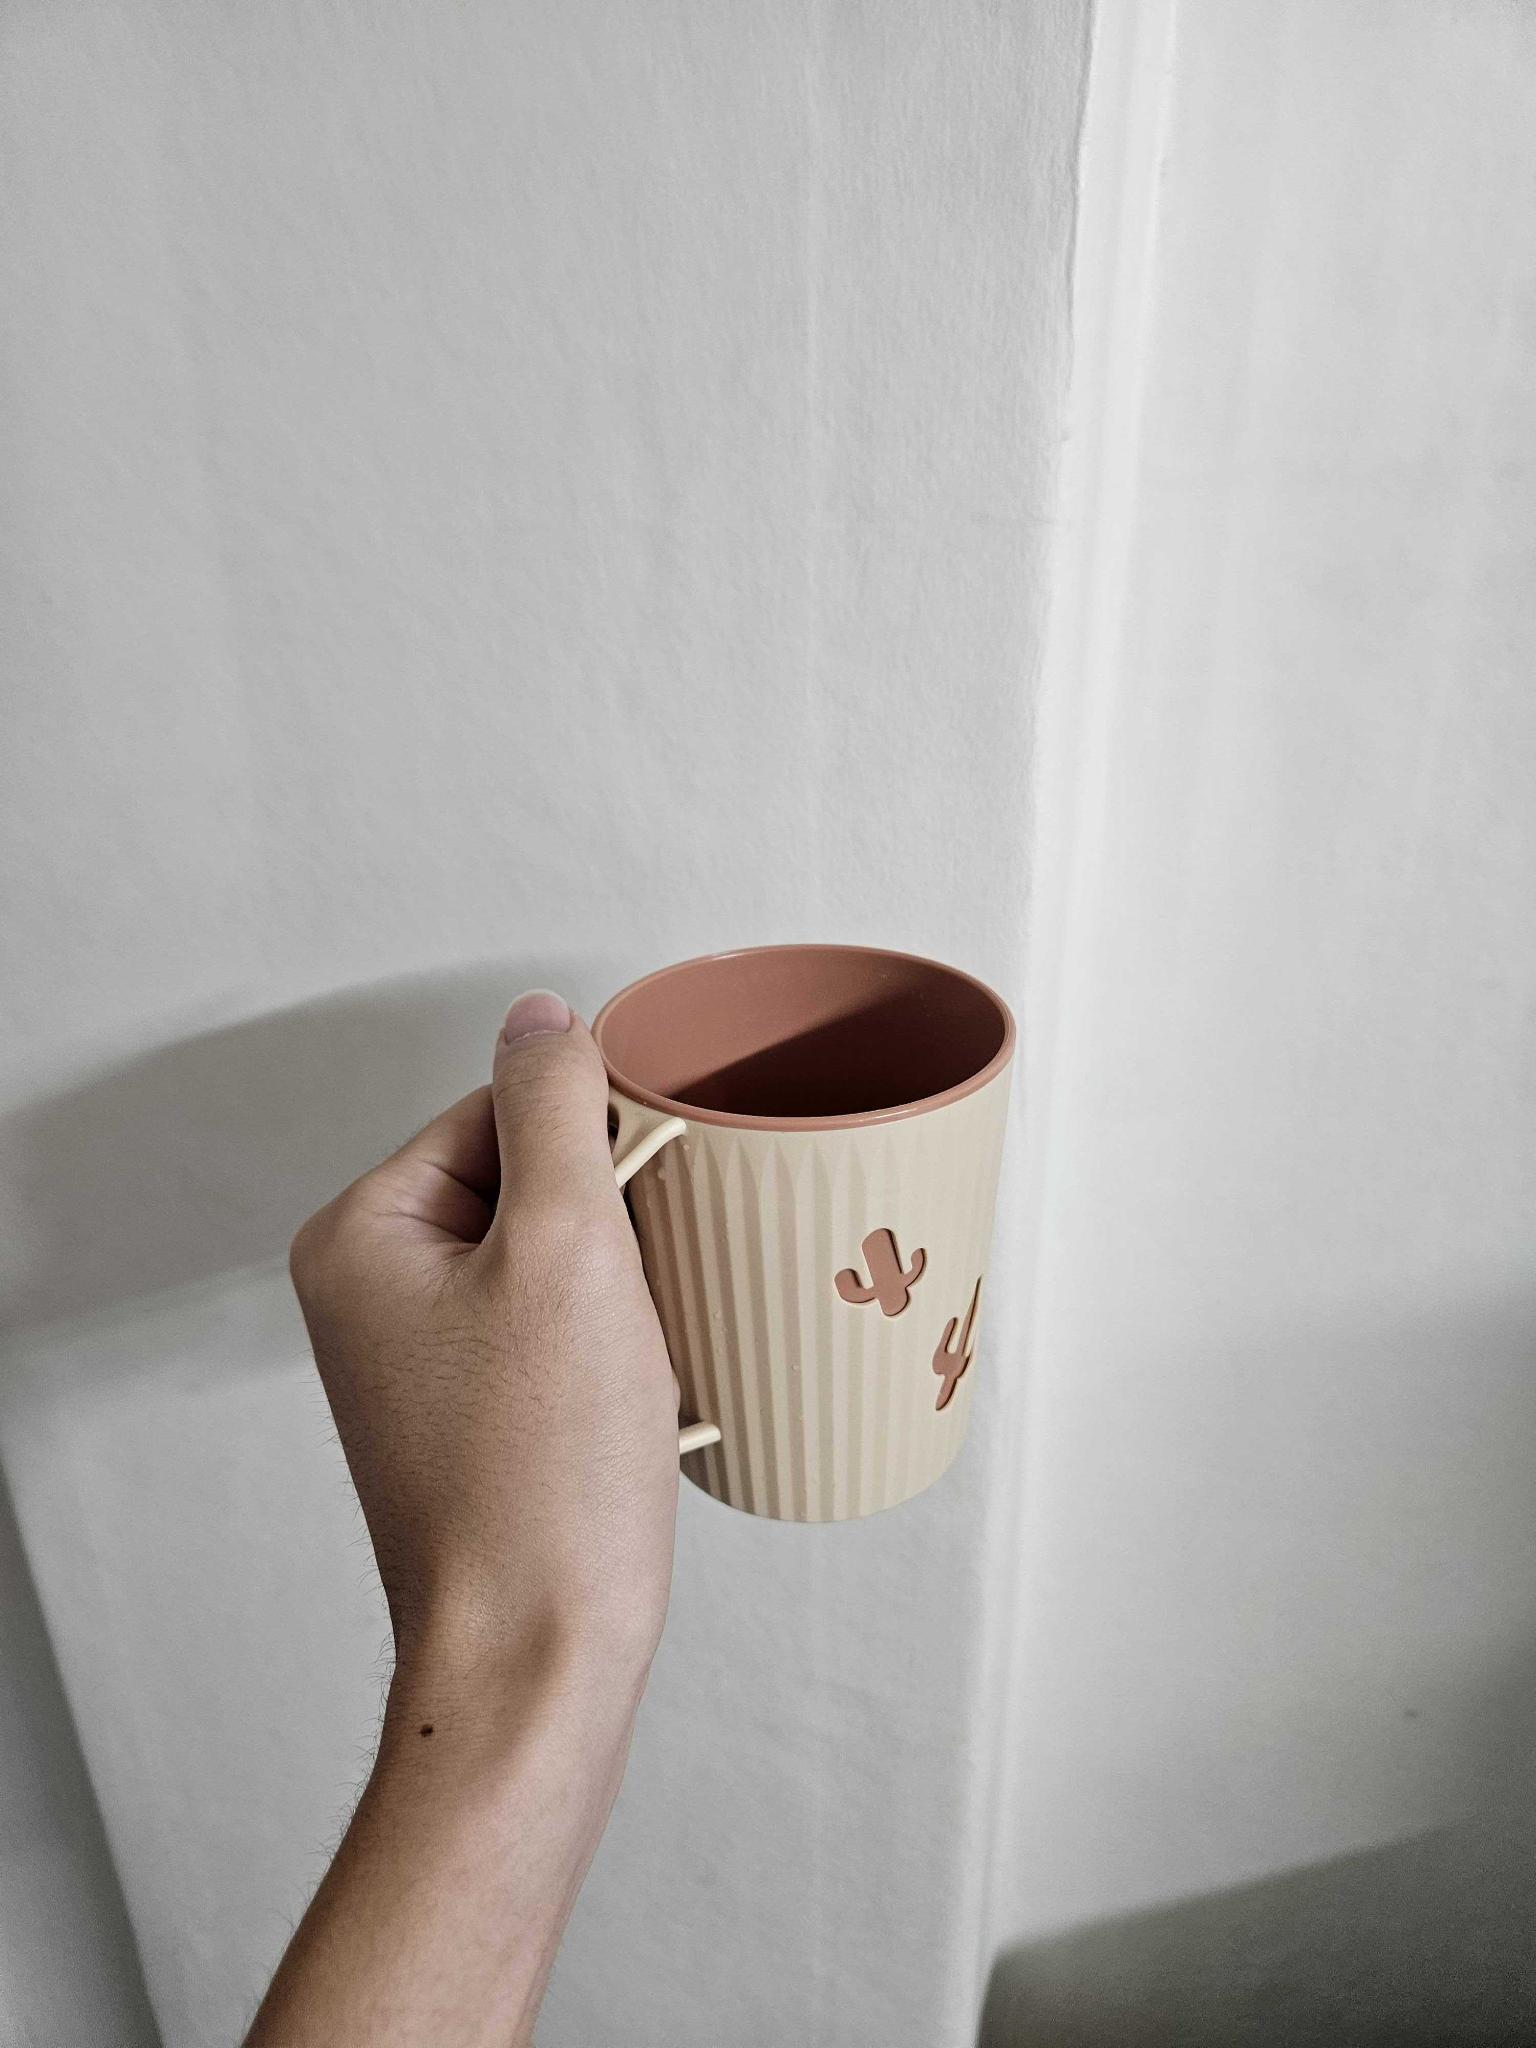cup: (276, 932, 1039, 1656)
